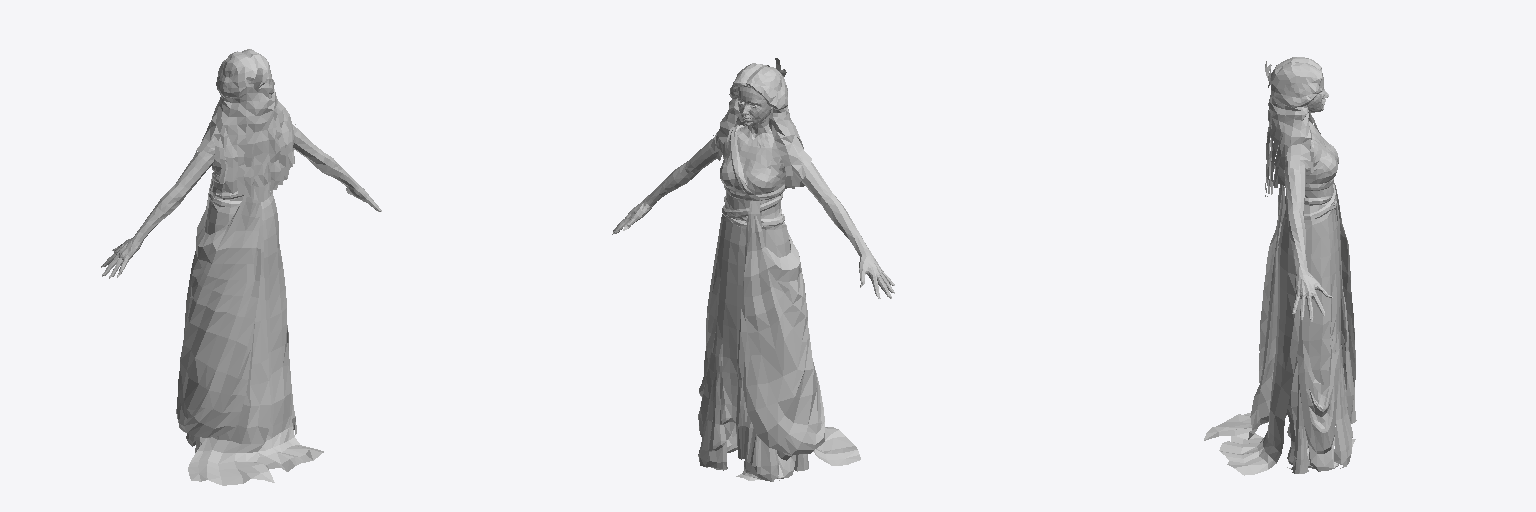
The model's file is Serafina Pekkala (Eva Green).obj.
The picture shows the model from 3 angles: view 1: azimuth 30°, elevation 25°; view 2: azimuth 150°, elevation 25°; view 3: azimuth 270°, elevation 25°; orthographic projection.
Parts seen in each view (by area): view 1: eva_green_eva_gre.001, eva_green_eva_gre.004, eva_green_eva_gre_eva_green_eva_gre.009, eva_green_eva_gre.005; view 2: eva_green_eva_gre.001, eva_green_eva_gre.004, eva_green_eva_gre_eva_green_eva_gre.009, eva_green_eva_gre.003, eva_green_eva_gre.005; view 3: eva_green_eva_gre.004, eva_green_eva_gre.001, eva_green_eva_gre_eva_green_eva_gre.009, eva_green_eva_gre.005.
Boxes of the visible parts, box(x1,y1,x2,y2) form: eva_green_eva_gre.001: box(101, 124, 381, 437); eva_green_eva_gre.004: box(186, 164, 323, 485); eva_green_eva_gre_eva_green_eva_gre.009: box(194, 49, 295, 201); eva_green_eva_gre.005: box(196, 49, 294, 201); eva_green_eva_gre.001: box(612, 116, 894, 478); eva_green_eva_gre.004: box(698, 183, 860, 481); eva_green_eva_gre_eva_green_eva_gre.009: box(711, 58, 811, 188); eva_green_eva_gre.003: box(738, 86, 772, 125); eva_green_eva_gre.005: box(711, 58, 811, 188); eva_green_eva_gre.004: box(1204, 178, 1356, 475); eva_green_eva_gre.001: box(1259, 113, 1355, 468); eva_green_eva_gre_eva_green_eva_gre.009: box(1265, 57, 1322, 196); eva_green_eva_gre.005: box(1265, 57, 1321, 196).
Size of the model in its own units: 0.1253 by 0.1681 by 0.0597.